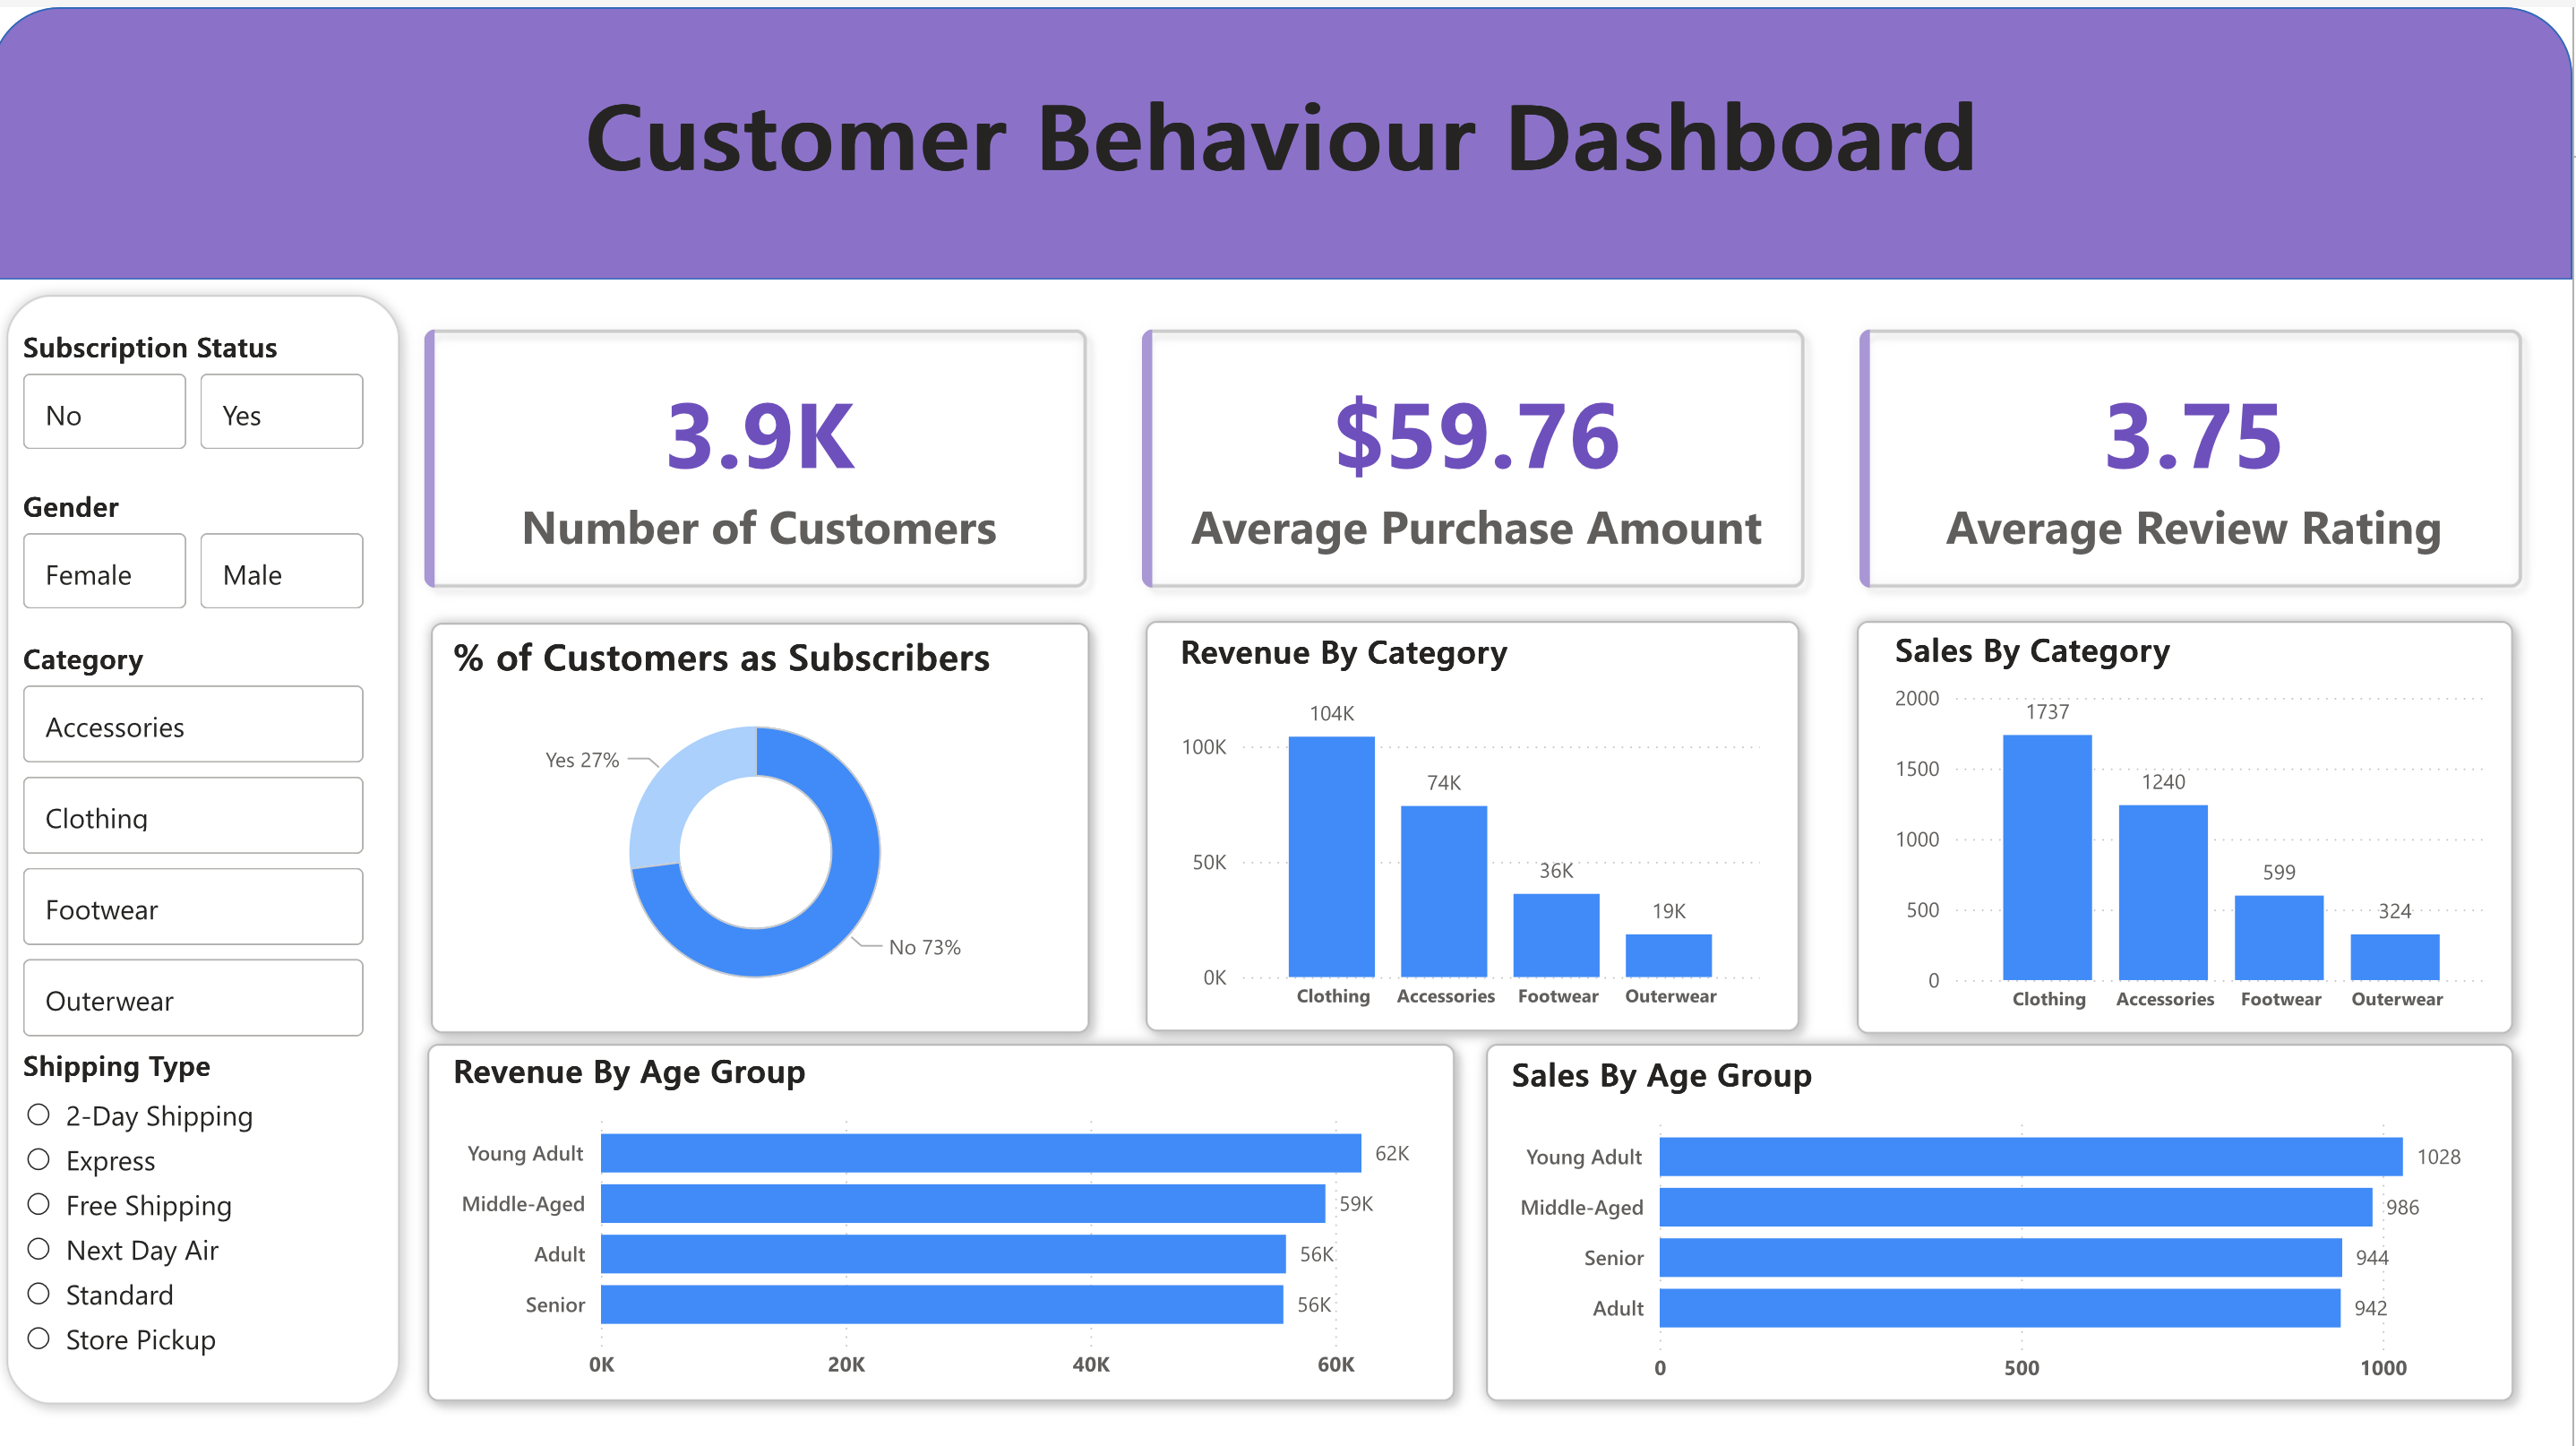

This screenshot's page, from the dashboard's own definition file:
{"tool":"powerbi","page":{"name":"Page 1","canvas":[1500,820],"ordinal":0},"visuals":[{"type":"cardVisual","fields":{"Data":["customer_behaviour_sql 21.Number of Customers","customer_behaviour_sql 21.Average Purchase Amount","customer_behaviour_sql 21.Average Review Rating"]},"box":[222.7,158.3,1277.3,208.7],"z":0},{"type":"shape","box":[0,0,1500,158.5],"z":1000},{"type":"textbox","title":"Customer Behaviour Dashboard","box":[0,36.1,1500,122.3],"z":2000},{"type":"shape","box":[246.5,348.7,400.6,256.3],"z":3000},{"type":"donutChart","title":"% of Customers as Subscribers","fields":{"Category":["customer_behaviour_sql 21.subscription_status"],"Y":["customer_behaviour_sql 21.Number of Customers"]},"box":[263.3,362.7,361.3,229.7],"z":4000},{"type":"shape","box":[662.5,347.3,397.8,256.3],"z":5000},{"type":"clusteredColumnChart","title":"Revenue By Category","fields":{"Category":["customer_behaviour_sql 21.category"],"Y":["Sum(customer_behaviour_sql 21.purchase_amount)"]},"box":[686.3,361.3,347.3,231.1],"z":6000},{"type":"shape","box":[1075.6,347.3,399.2,257.7],"z":7000},{"type":"clusteredColumnChart","title":"Sales By Category","fields":{"Category":["customer_behaviour_sql 21.category"],"Y":["customer_behaviour_sql 21.Number of Customers"]},"box":[1100.8,359.9,355.7,233.9],"z":8000},{"type":"shape","box":[0,158.3,246.5,662.5],"z":9000},{"type":"advancedSlicerVisual","title":"Subscription Status","fields":{"Values":["customer_behaviour_sql 21.subscription_status"]},"box":[14,186.3,208.7,75.6],"z":10000},{"type":"advancedSlicerVisual","title":"Gender","fields":{"Values":["customer_behaviour_sql 21.gender"]},"box":[14,278.7,208.7,75.6],"z":11000},{"type":"advancedSlicerVisual","title":"Category","fields":{"Values":["customer_behaviour_sql 21.category"]},"box":[14,366.9,208.7,236.7],"z":12000},{"type":"listSlicer","title":"Shipping Type","fields":{"Values":["customer_behaviour_sql 21.shipping_type"]},"box":[14,603.6,208.7,193.3],"z":13000},{"type":"shape","box":[245.1,593.8,614.8,225.5],"z":14000},{"type":"shape","box":[859.9,593.8,614.8,225.5],"z":15000},{"type":"clusteredBarChart","title":"Revenue By Age Group","fields":{"Y":["Sum(customer_behaviour_sql 21.purchase_amount)"],"Category":["customer_behaviour_sql 21.age_group"]},"box":[263.3,605,578.4,201.7],"z":16000},{"type":"clusteredBarChart","title":"Sales By Age Group","fields":{"Category":["customer_behaviour_sql 21.age_group"],"Y":["customer_behaviour_sql 21.Number of Customers"]},"box":[878.2,606.4,578.4,201.7],"z":17000}]}

Visuals, with their boxes in screenshot pixels (x1, y1, x2, y2), scaled from the page's 1500x820 canvas onto the 2576x1446 screenshot:
cardVisual - customer_behaviour_sql 21.Number of Customers x customer_behaviour_sql 21.Average Purchase Amount: Rect(382, 280, 2575, 647)
shape: Rect(0, 0, 2575, 280)
"Customer Behaviour Dashboard" textbox: Rect(0, 64, 2575, 280)
shape: Rect(424, 615, 1112, 1067)
"% of Customers as Subscribers" donutChart: Rect(452, 640, 1073, 1045)
shape: Rect(1138, 613, 1821, 1064)
"Revenue By Category" clusteredColumnChart: Rect(1179, 637, 1775, 1045)
shape: Rect(1847, 613, 2533, 1067)
"Sales By Category" clusteredColumnChart: Rect(1891, 634, 2502, 1047)
shape: Rect(0, 280, 424, 1445)
"Subscription Status" advancedSlicerVisual: Rect(24, 329, 382, 461)
"Gender" advancedSlicerVisual: Rect(24, 492, 382, 624)
"Category" advancedSlicerVisual: Rect(24, 647, 382, 1064)
"Shipping Type" listSlicer: Rect(24, 1064, 382, 1406)
shape: Rect(421, 1047, 1477, 1445)
shape: Rect(1477, 1047, 2532, 1445)
"Revenue By Age Group" clusteredBarChart: Rect(452, 1067, 1446, 1423)
"Sales By Age Group" clusteredBarChart: Rect(1508, 1070, 2502, 1425)
